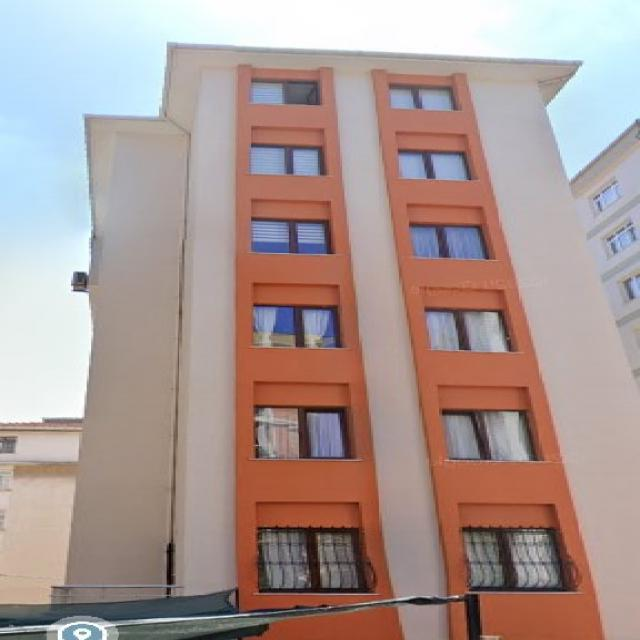Building: (66, 42, 640, 640)
